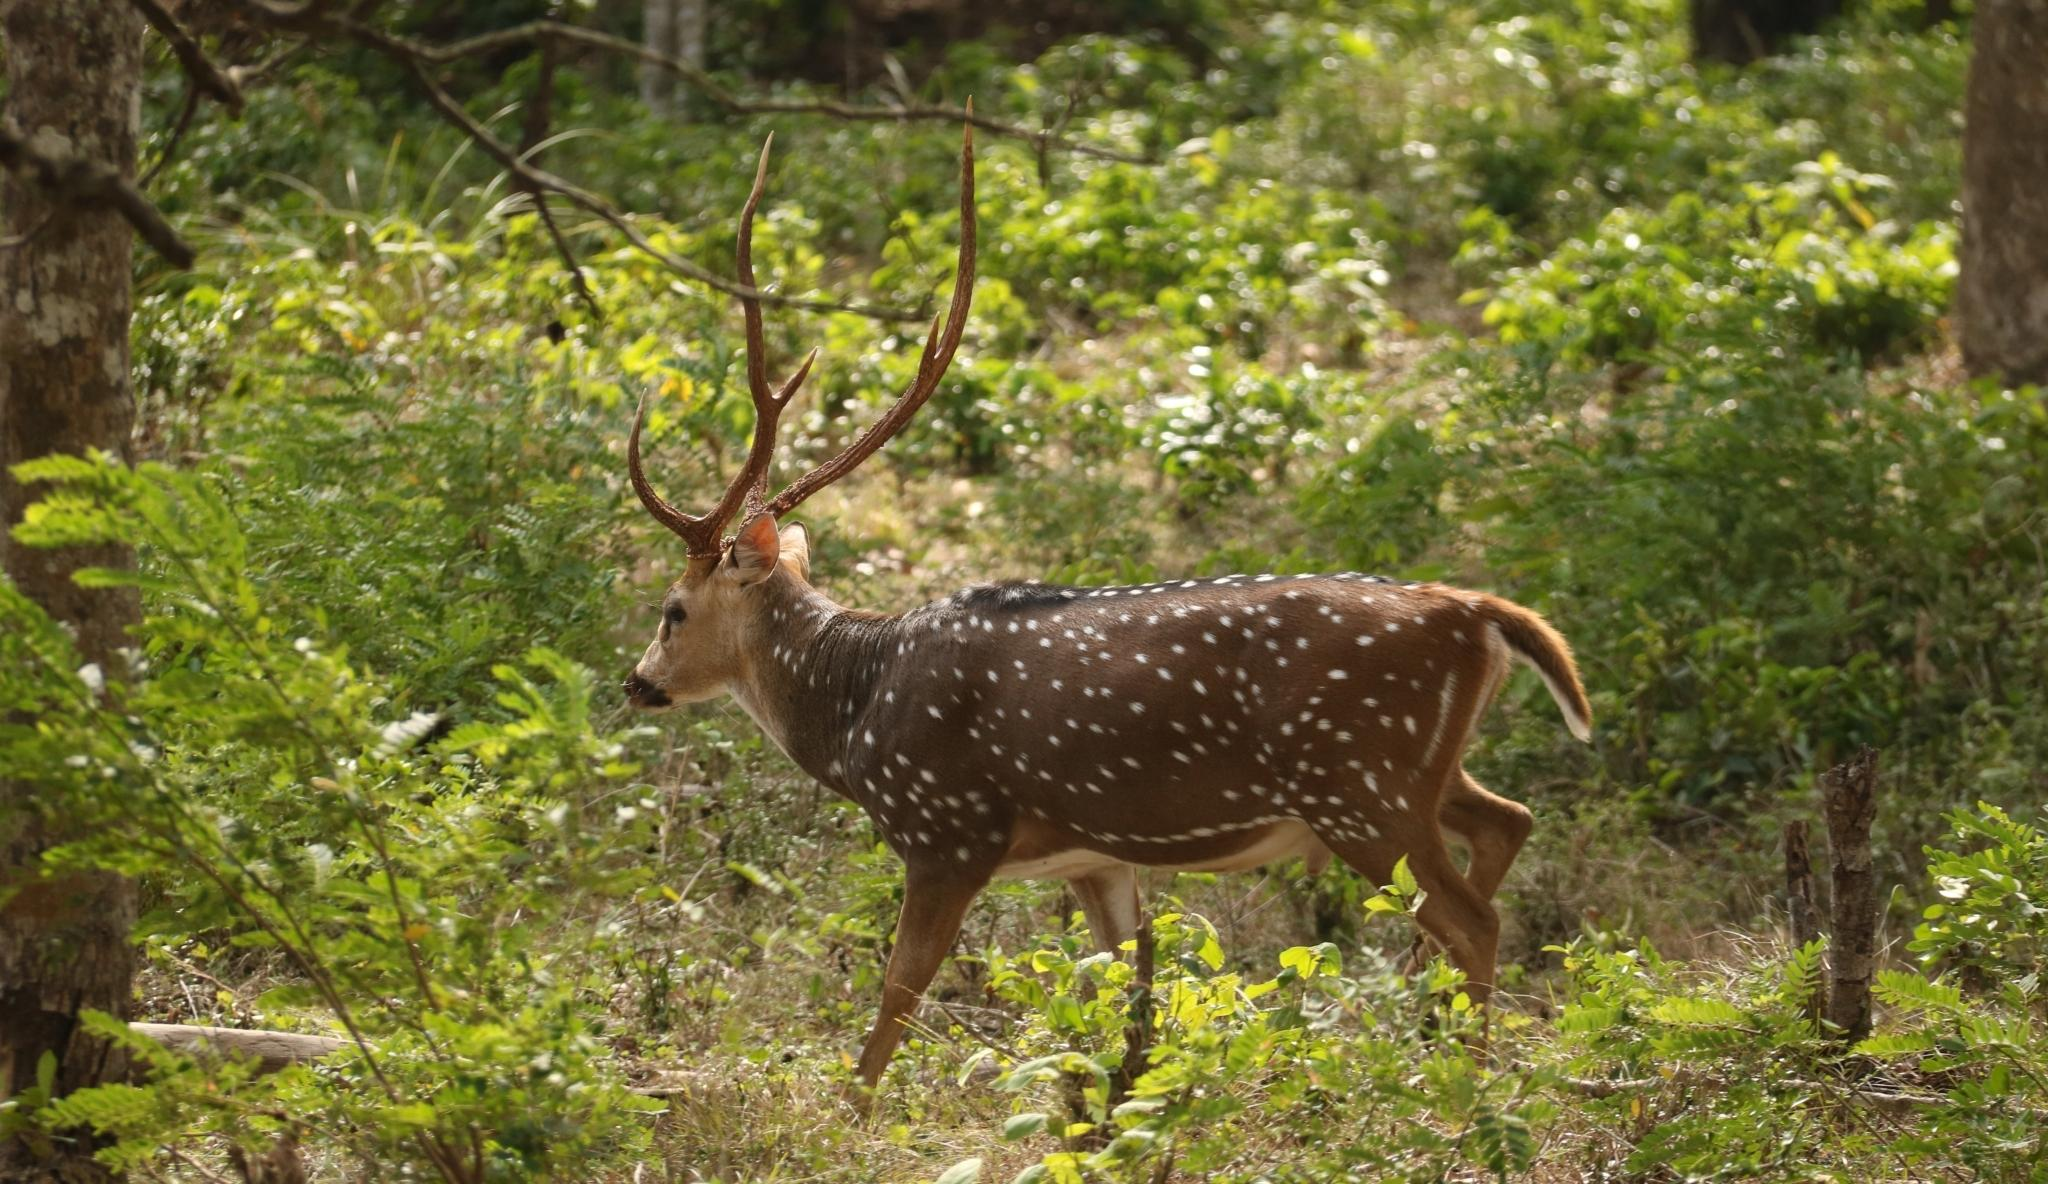Deer: (623, 130, 1589, 1081)
